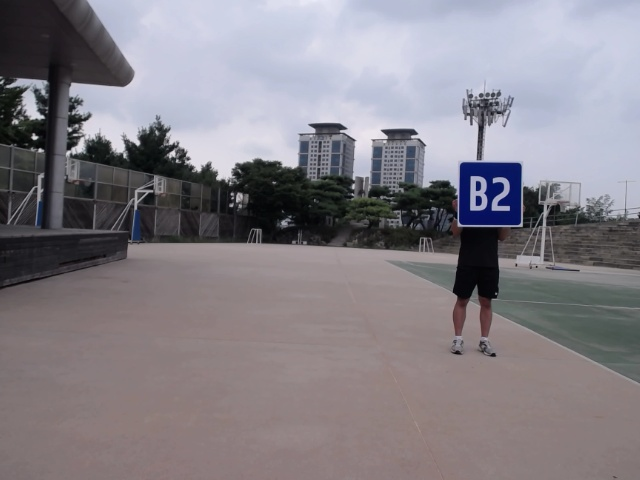delivery_b2: (459, 160, 524, 228)
